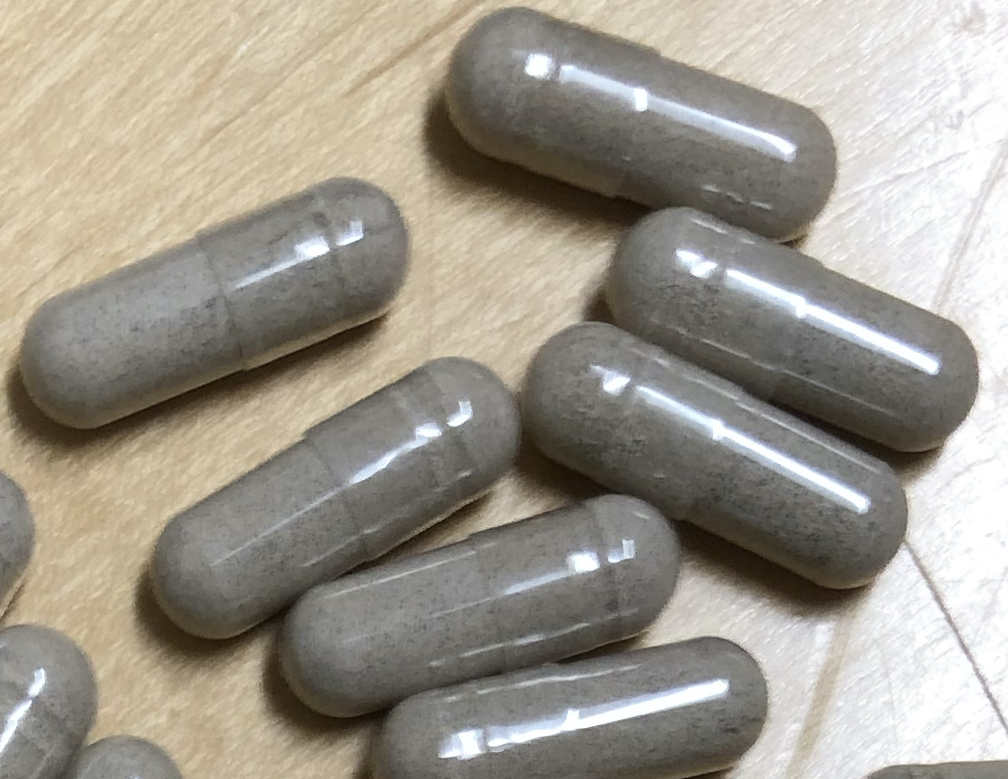capsule: (518, 318, 909, 592), (147, 357, 524, 639), (14, 173, 409, 430), (606, 204, 981, 456), (443, 5, 841, 242), (278, 492, 684, 719), (365, 631, 769, 779), (3, 611, 97, 779)
